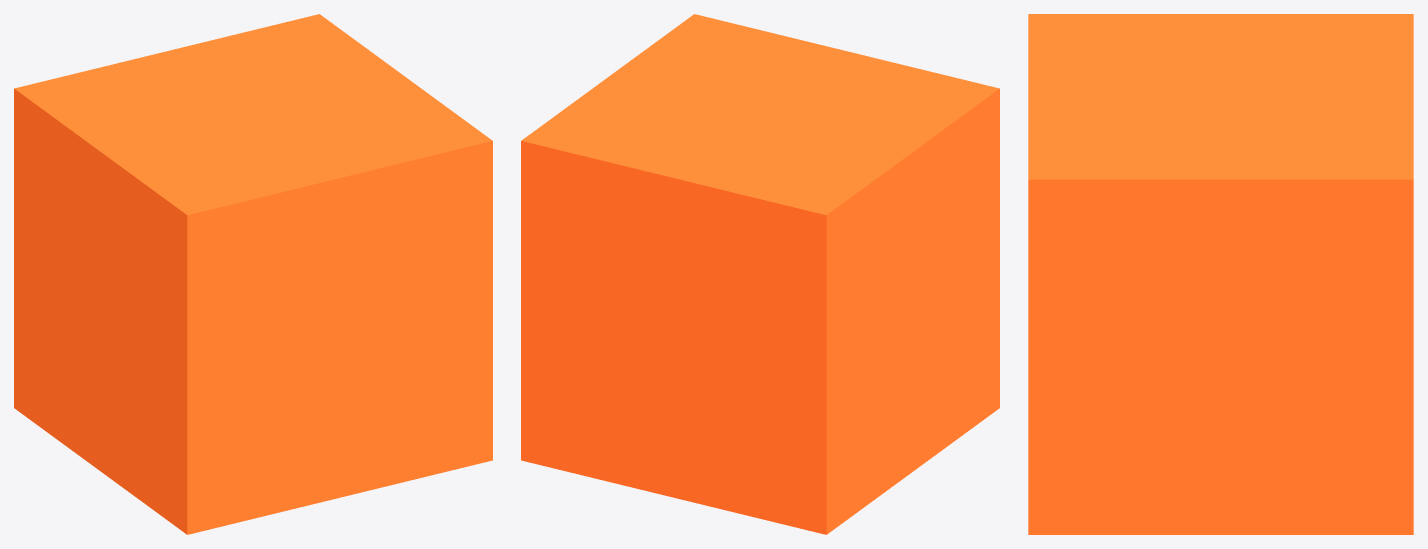
File: MoveStretchForward.fbx
3 views of the same model, side by side, from view 1: azimuth 30°, elevation 25°; view 2: azimuth 150°, elevation 25°; view 3: azimuth 270°, elevation 25° (orthographic). The views are drawn at different scales.
Visible parts, largest first — view 1: Box001; view 2: Box001; view 3: Box001.
Part boxes in pixels (x1,y1,x2,y2): Box001: (14,14,492,534); Box001: (521,14,999,534); Box001: (1028,14,1413,534).
Size of the model in its own units: 20 by 20 by 19.65.
